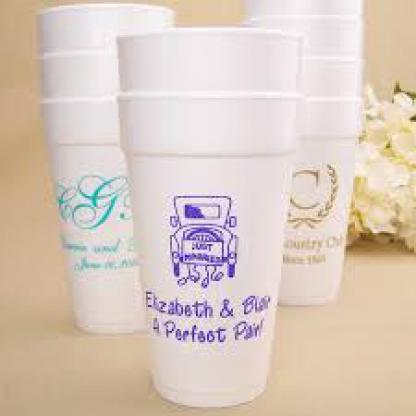book: (346, 82, 414, 252)
paper: (113, 24, 303, 405), (115, 91, 281, 405), (34, 2, 178, 333), (238, 0, 362, 309), (39, 94, 157, 331), (242, 89, 353, 303)
